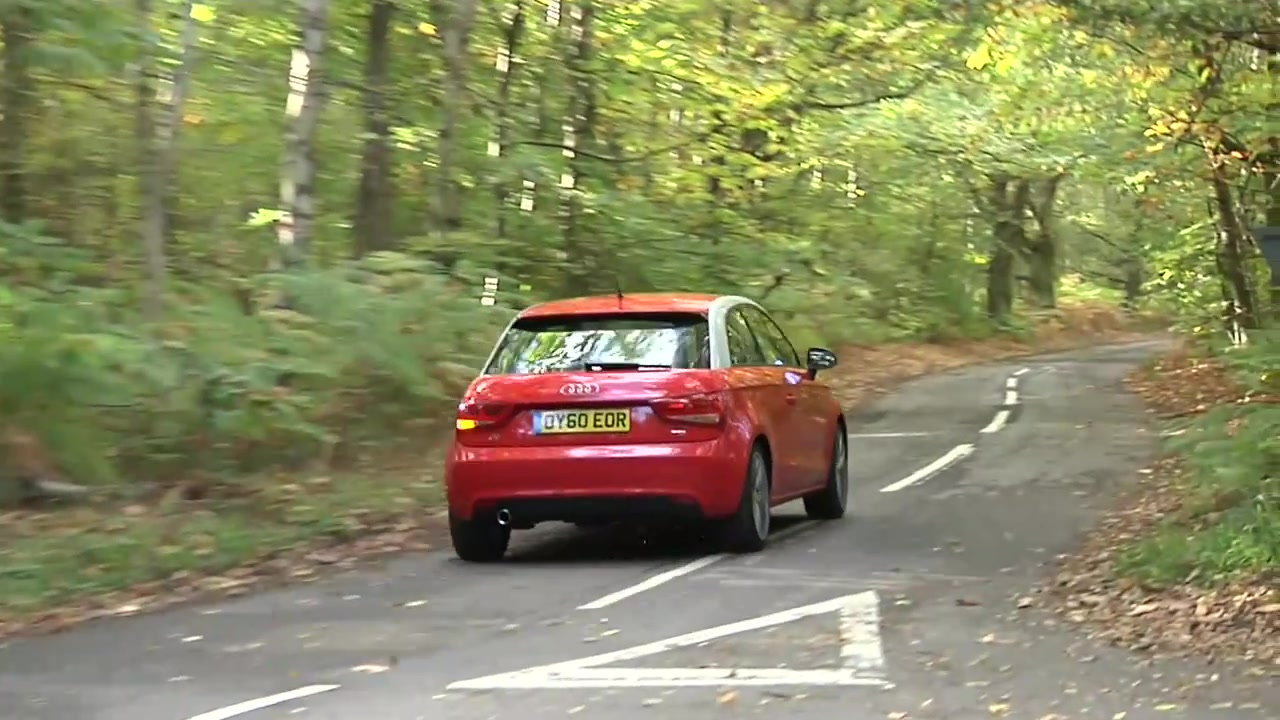car: (438, 296, 856, 558)
